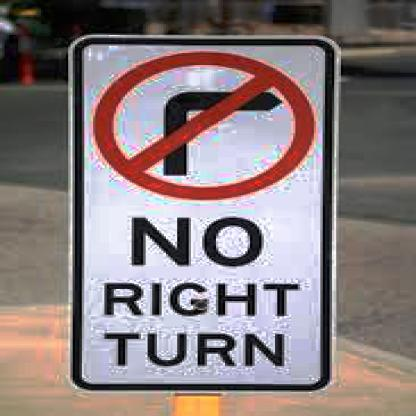No right turn: (86, 54, 313, 202)
